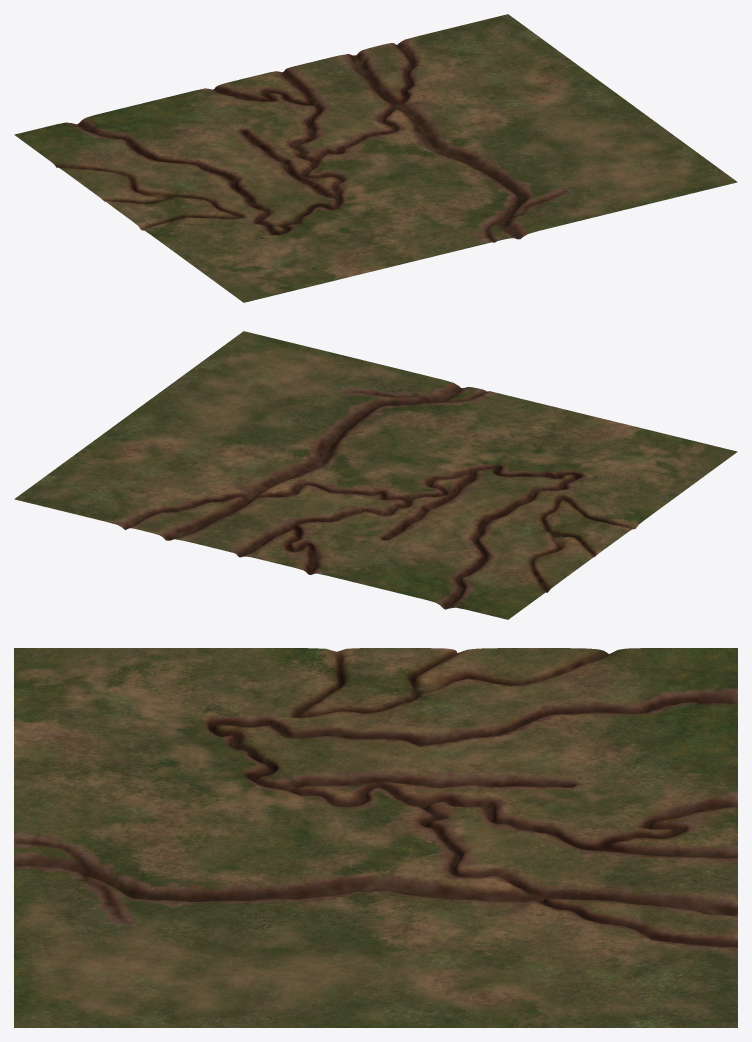
The model's file is Peta_Oelolok.fbx.
3 renders of one model, top to bottom at view 1: azimuth 30°, elevation 25°; view 2: azimuth 150°, elevation 25°; view 3: azimuth 270°, elevation 25°, orthographic. The views are drawn at different scales.
Parts seen in each view (by area): view 1: Oelolok; view 2: Oelolok; view 3: Oelolok.
Boxes of the visible parts, x1,y1,x2,y2 form: Oelolok: (14,14,737,302); Oelolok: (14,331,737,619); Oelolok: (14,648,737,1027).
Size of the model in its own units: 3806 by 44.95 by 3065.
1 material, 1 textured.
